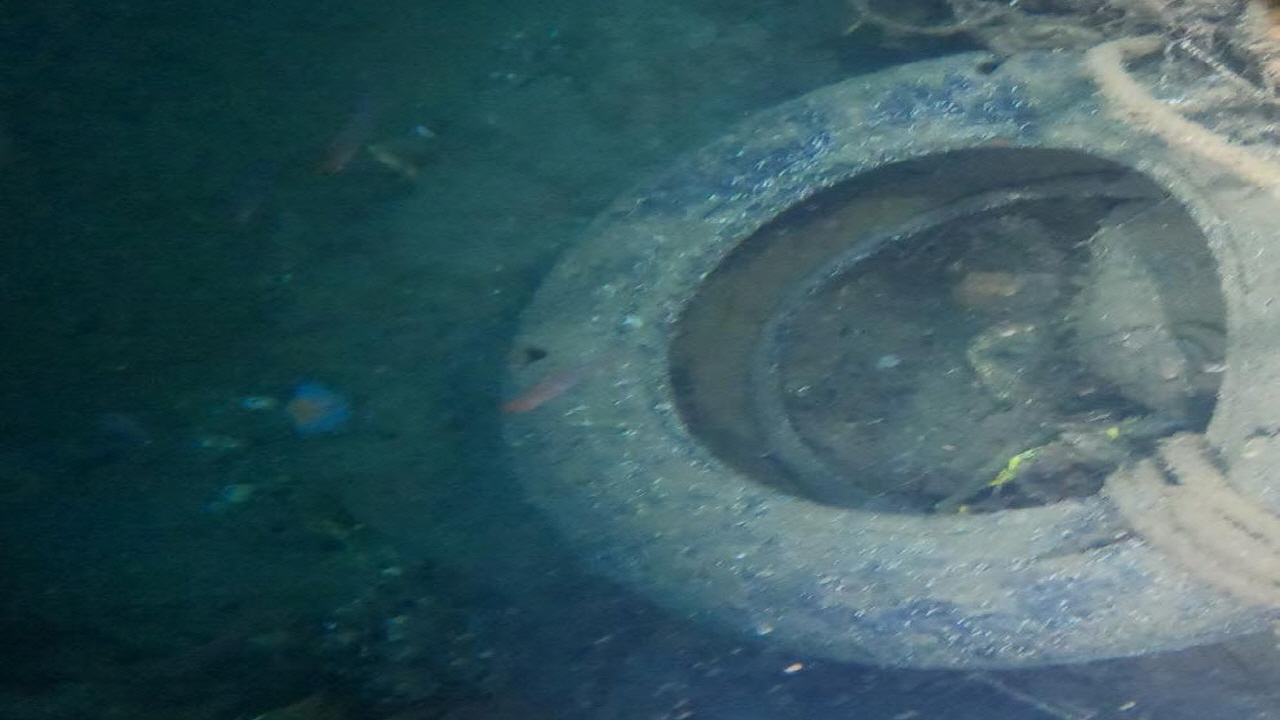bundle of rope: (813, 1, 1280, 179)
bundle of ropes: (1102, 428, 1280, 618)
tire: (498, 48, 1280, 668)
